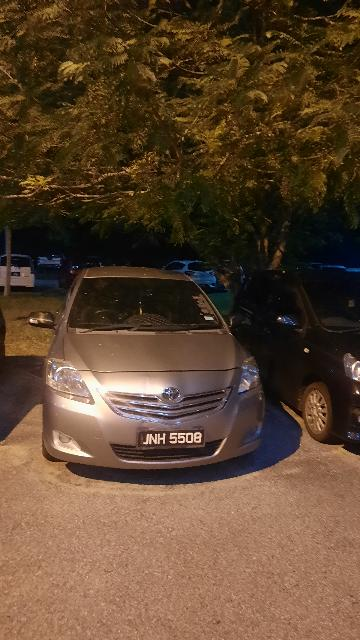License_Plate: (136, 426, 208, 453)
car: (27, 261, 266, 475)
